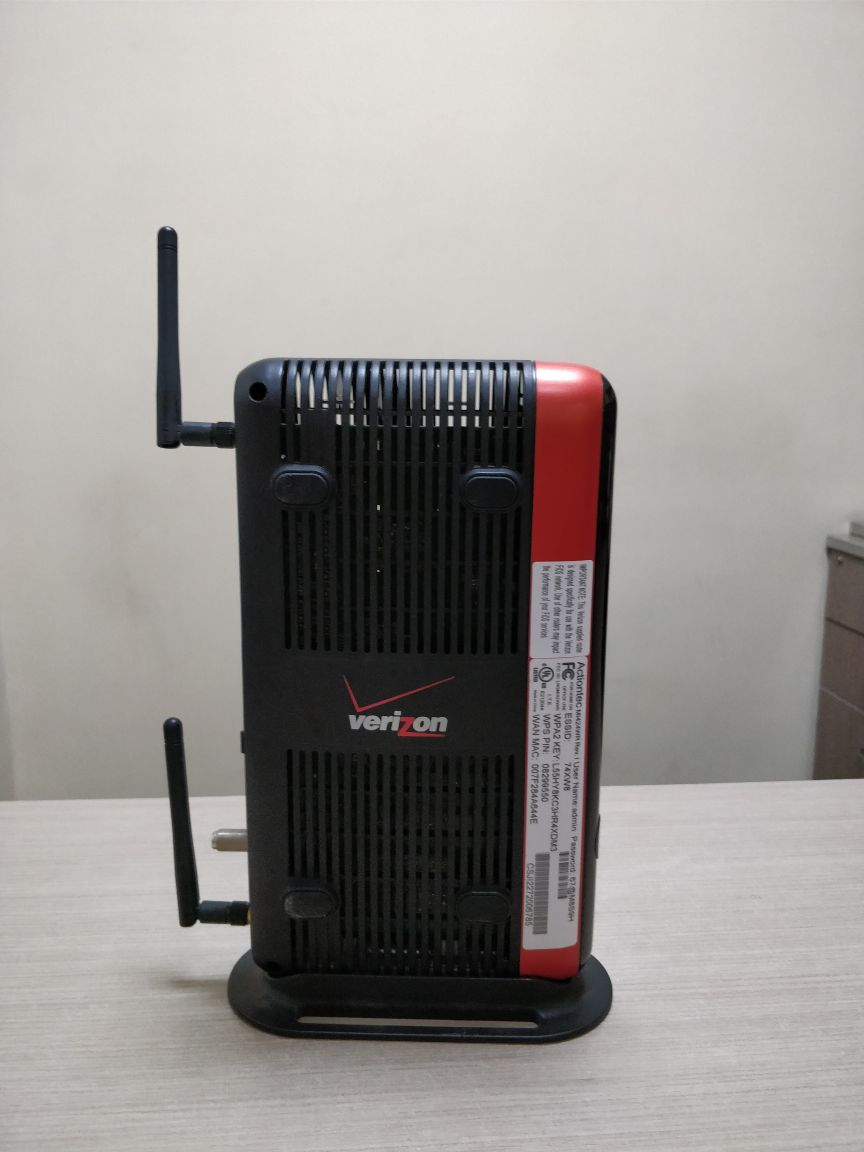Verizon Router: (103, 151, 721, 1090)
